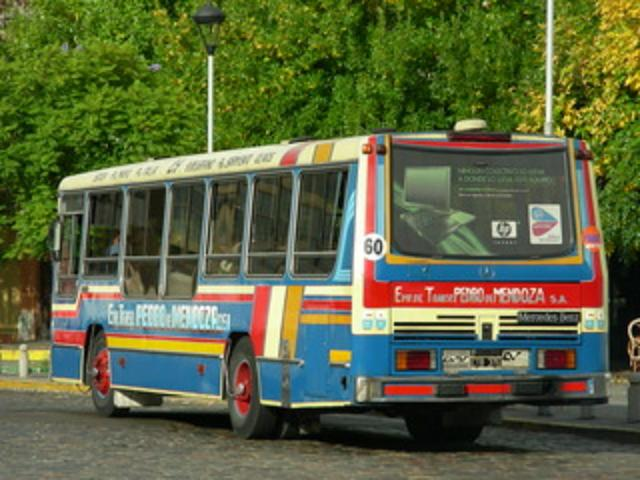bus: (48, 132, 610, 440)
